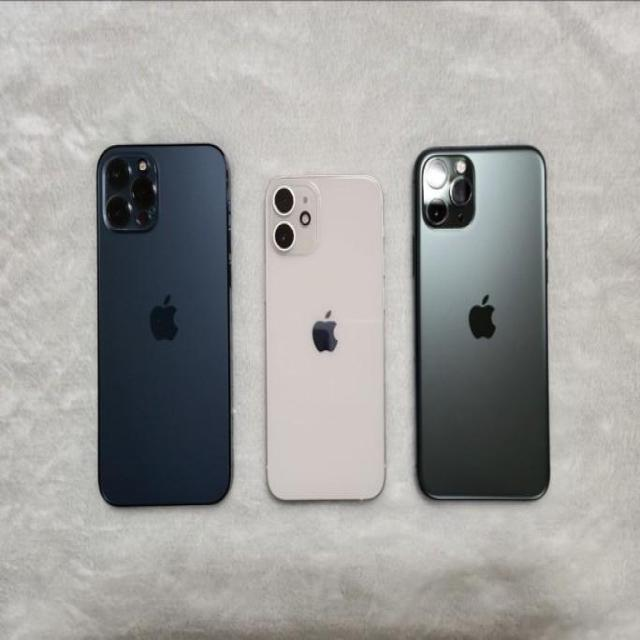smart phone: (75, 95, 248, 507), (418, 137, 562, 540), (262, 158, 405, 517)
